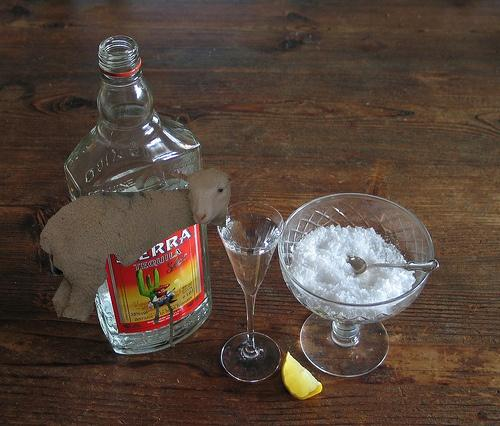tampered: (41, 169, 243, 347)
